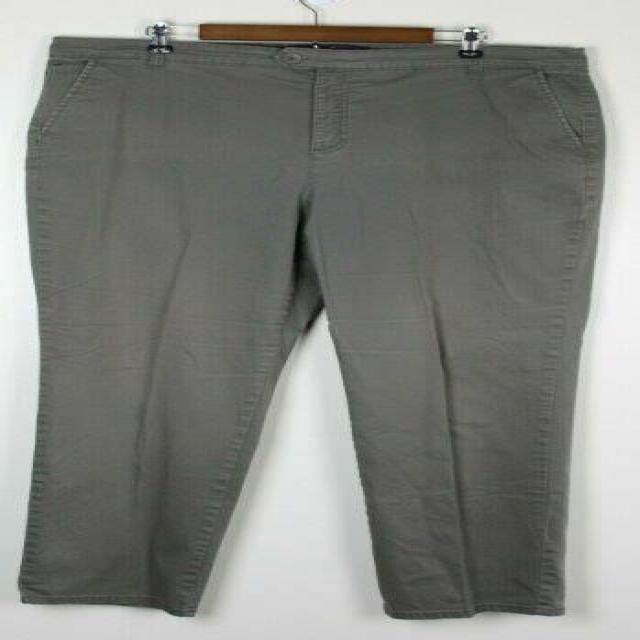long-pants: (17, 36, 608, 618)
